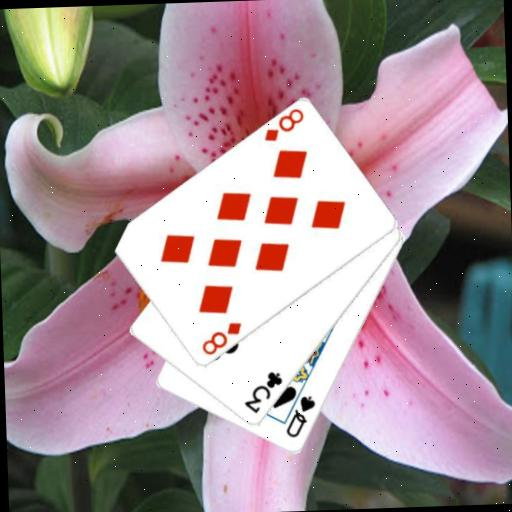3C: (239, 368, 285, 417)
8D: (197, 319, 244, 358), (260, 105, 307, 144)
QS: (281, 392, 318, 439)
